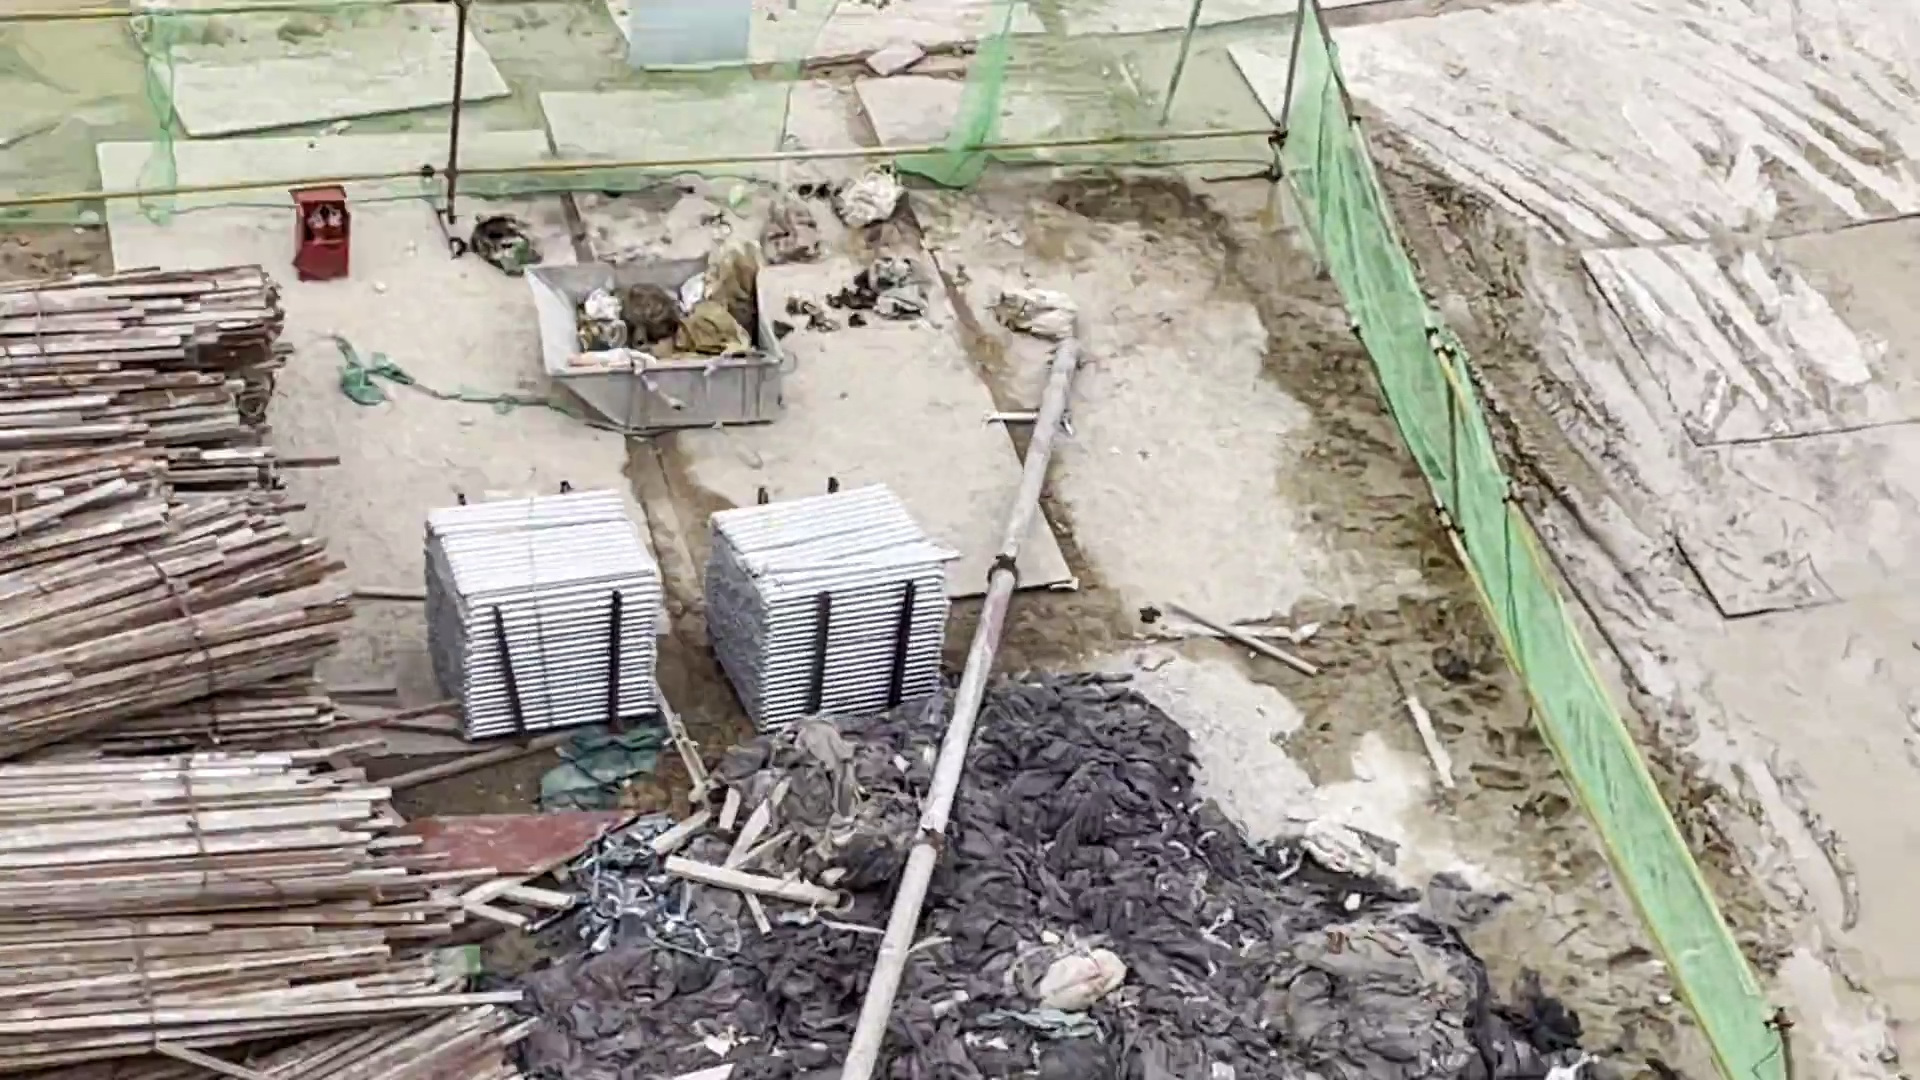hopper: (508, 241, 806, 440)
scaffold: (392, 488, 960, 741)
wood: (3, 243, 444, 1080)
